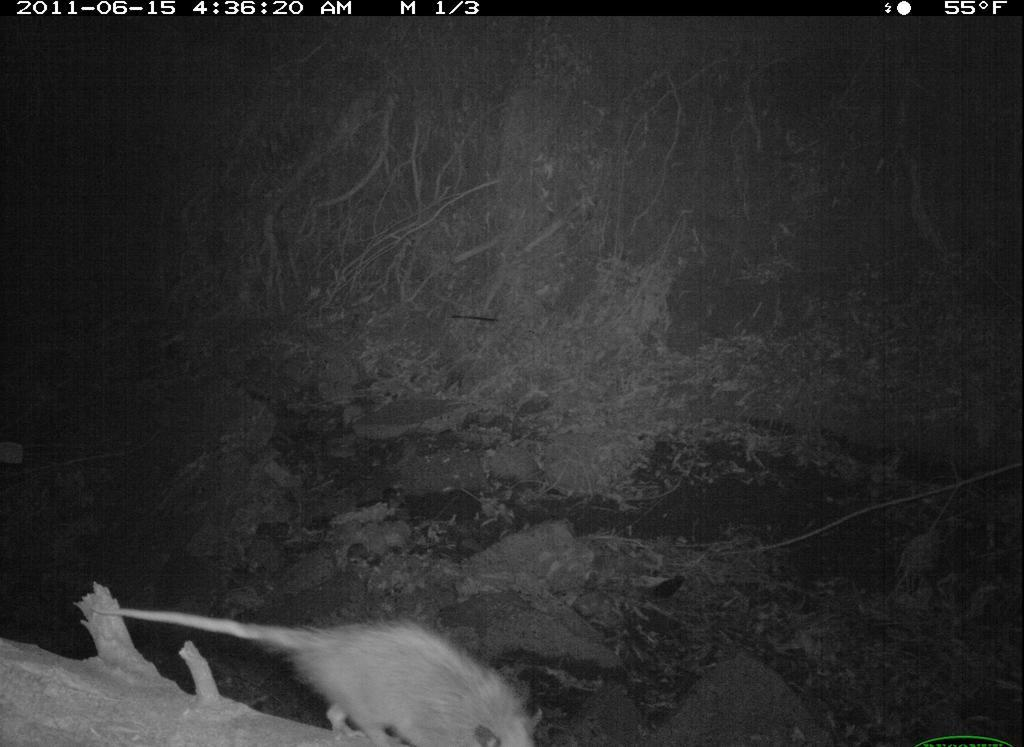opossum: (89, 597, 543, 740)
